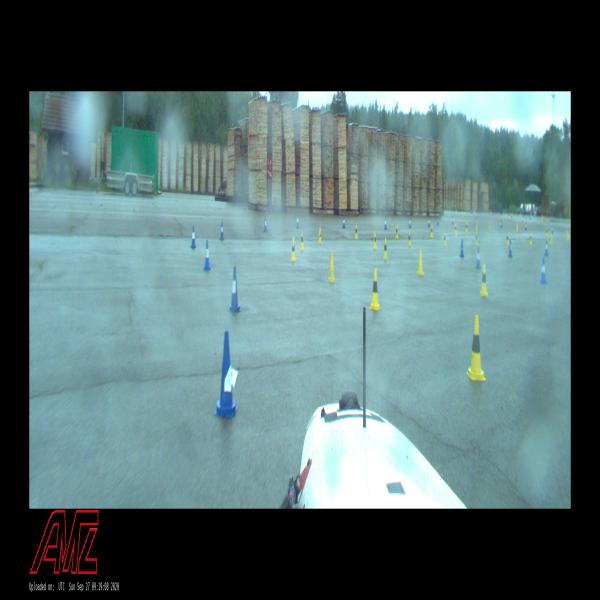blue_cone: (216, 331, 235, 417), (229, 267, 240, 313), (203, 240, 210, 270), (540, 258, 547, 284), (475, 246, 480, 268), (191, 226, 196, 247), (460, 239, 464, 257), (508, 239, 512, 257), (220, 222, 224, 239), (263, 216, 267, 232), (544, 240, 548, 255), (384, 217, 387, 229), (297, 215, 299, 228), (343, 216, 345, 228), (451, 216, 454, 224), (409, 218, 411, 228), (437, 216, 439, 226), (500, 220, 502, 228), (428, 218, 430, 226), (551, 225, 553, 233), (525, 223, 527, 230), (529, 214, 531, 221), (525, 214, 527, 220)
orange_cone: (533, 216, 535, 224), (548, 216, 549, 224), (495, 212, 496, 220), (509, 214, 510, 221), (522, 216, 523, 222)
yellow_cone: (468, 315, 484, 380), (371, 269, 379, 309), (480, 264, 488, 296), (328, 251, 336, 282), (417, 249, 424, 275), (291, 237, 296, 261), (383, 238, 388, 260), (300, 231, 304, 250), (373, 232, 377, 249), (318, 227, 322, 244), (408, 231, 411, 246), (475, 231, 478, 245), (395, 225, 398, 238), (430, 225, 433, 237), (454, 223, 457, 235), (506, 232, 509, 244), (529, 233, 532, 244), (465, 222, 468, 232), (355, 225, 357, 238), (444, 232, 446, 245), (550, 232, 552, 245), (546, 227, 548, 237), (566, 231, 568, 241), (516, 223, 518, 231), (489, 220, 491, 228), (476, 222, 477, 229), (463, 209, 464, 214)
